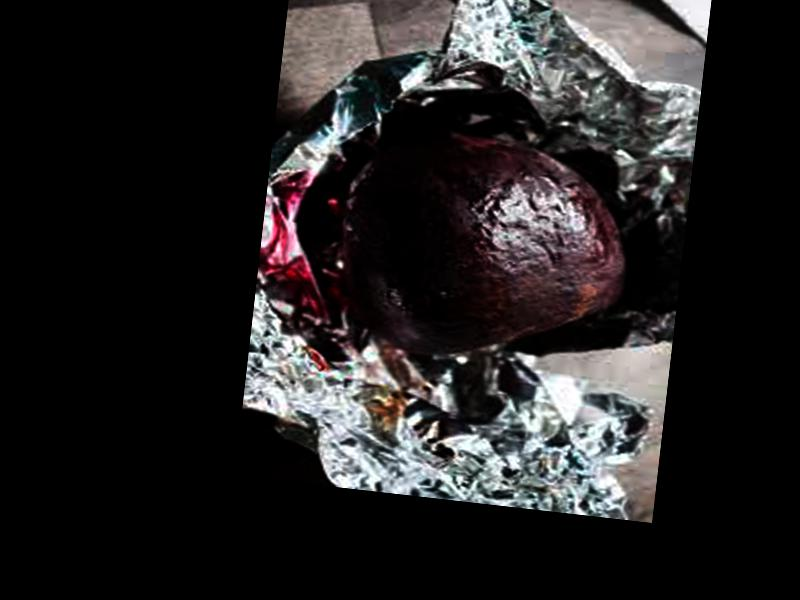Beet: (341, 118, 641, 376)
